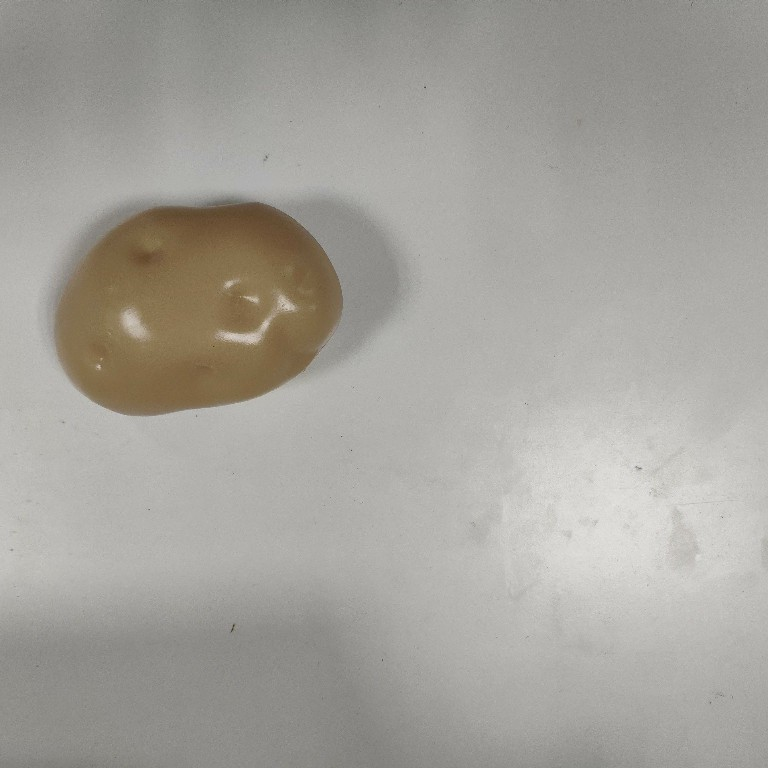fruit_potato: (48, 199, 347, 419)
